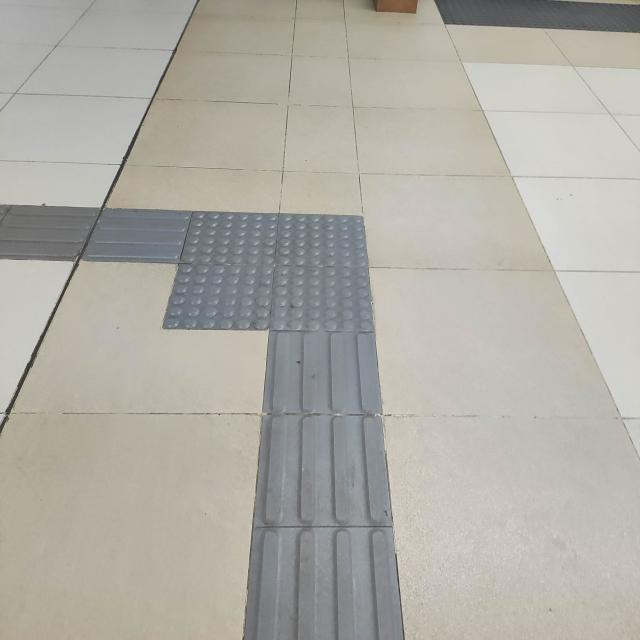kiri: (62, 146, 446, 400)
